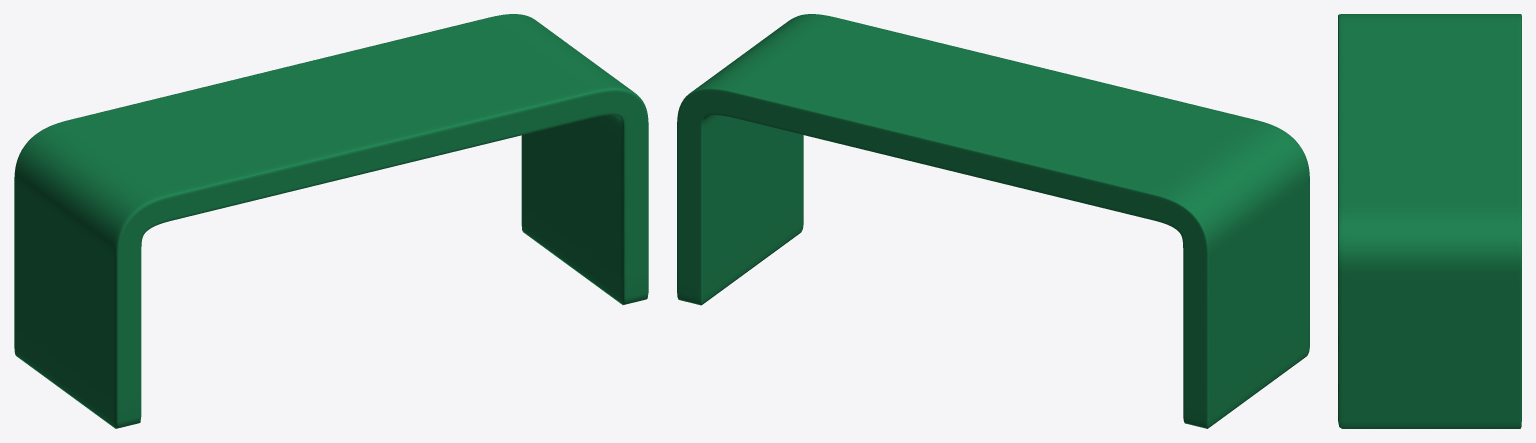
Rendered from Desk.fbx.
3 renders of one model, left to right at view 1: azimuth 30°, elevation 25°; view 2: azimuth 150°, elevation 25°; view 3: azimuth 270°, elevation 25°, orthographic. The views are drawn at different scales.
Visible parts, largest first — view 1: Desk; view 2: Desk; view 3: Desk.
Part boxes in pixels (bbox=[...]): Desk: bbox=[14, 14, 648, 428]; Desk: bbox=[677, 14, 1309, 428]; Desk: bbox=[1338, 14, 1521, 428].
Size of the model in its own units: 8.37 by 3.34 by 2.8.
